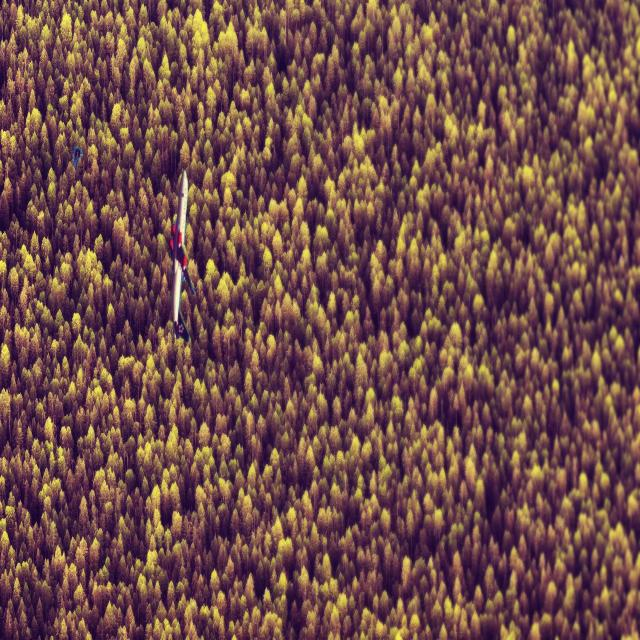airplane: (168, 168, 195, 344), (71, 145, 83, 170)
